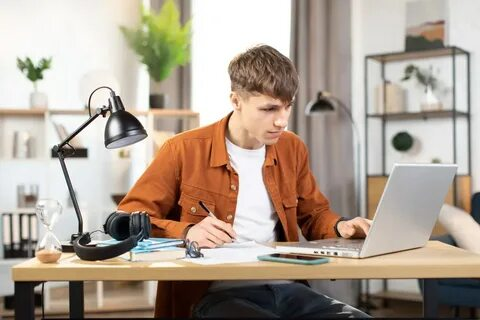awake: (159, 42, 329, 246)
